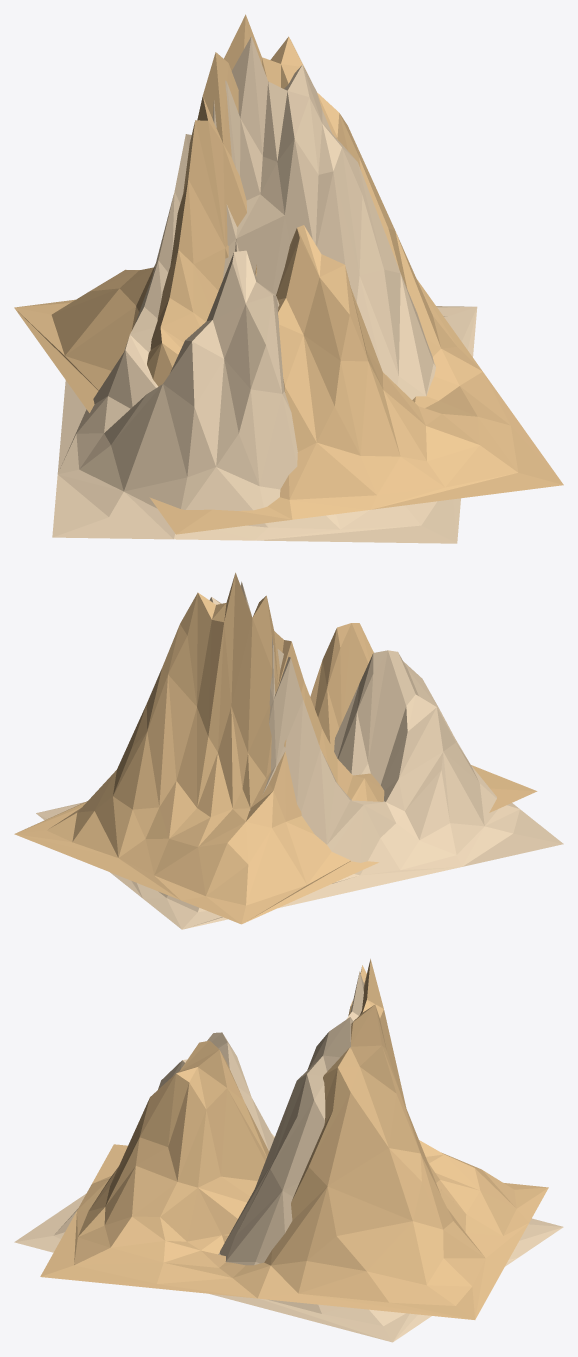
File: mount9_00008.fbx
3 renders of one model, top to bottom at view 1: azimuth 30°, elevation 25°; view 2: azimuth 150°, elevation 25°; view 3: azimuth 270°, elevation 25°, orthographic. The views are drawn at different scales.
Visible parts, largest first — view 1: mount9; view 2: mount9; view 3: mount9.
Boxes of the visible parts, left/top/right/bottom form: mount9: left=14, top=14, right=563, bottom=543; mount9: left=14, top=572, right=563, bottom=929; mount9: left=14, top=959, right=563, bottom=1342.
Bounding box in the file's own units: 4179 × 2626 × 4501.
